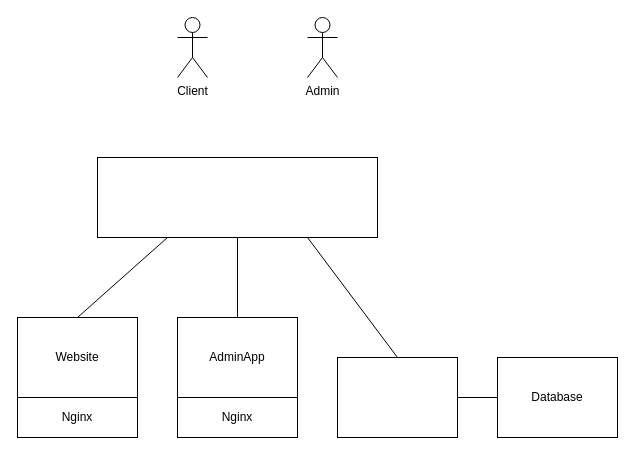
The diagram is 635 pixels wide and 455 high, and some of its shapes have lost their labels. Each missing label, with the box of its shape:
Backend: (336, 356, 458, 438)
Reverse Proxy: (96, 156, 378, 238)
